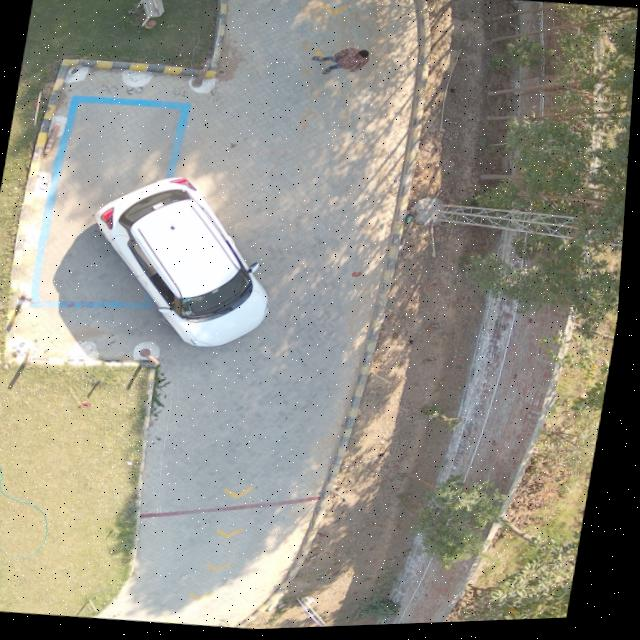car: (96, 178, 271, 349)
